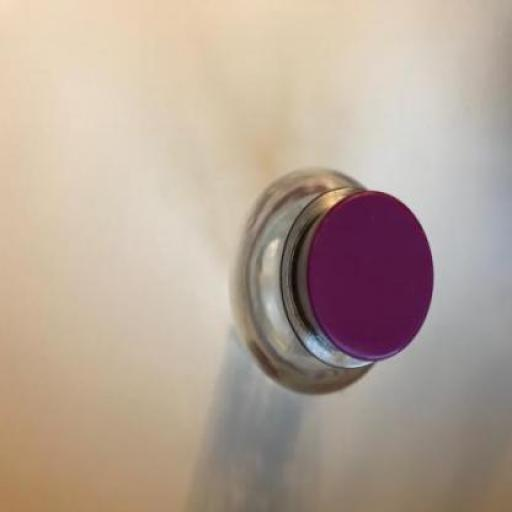glass: (227, 169, 376, 396)
plastic: (289, 190, 433, 369)
